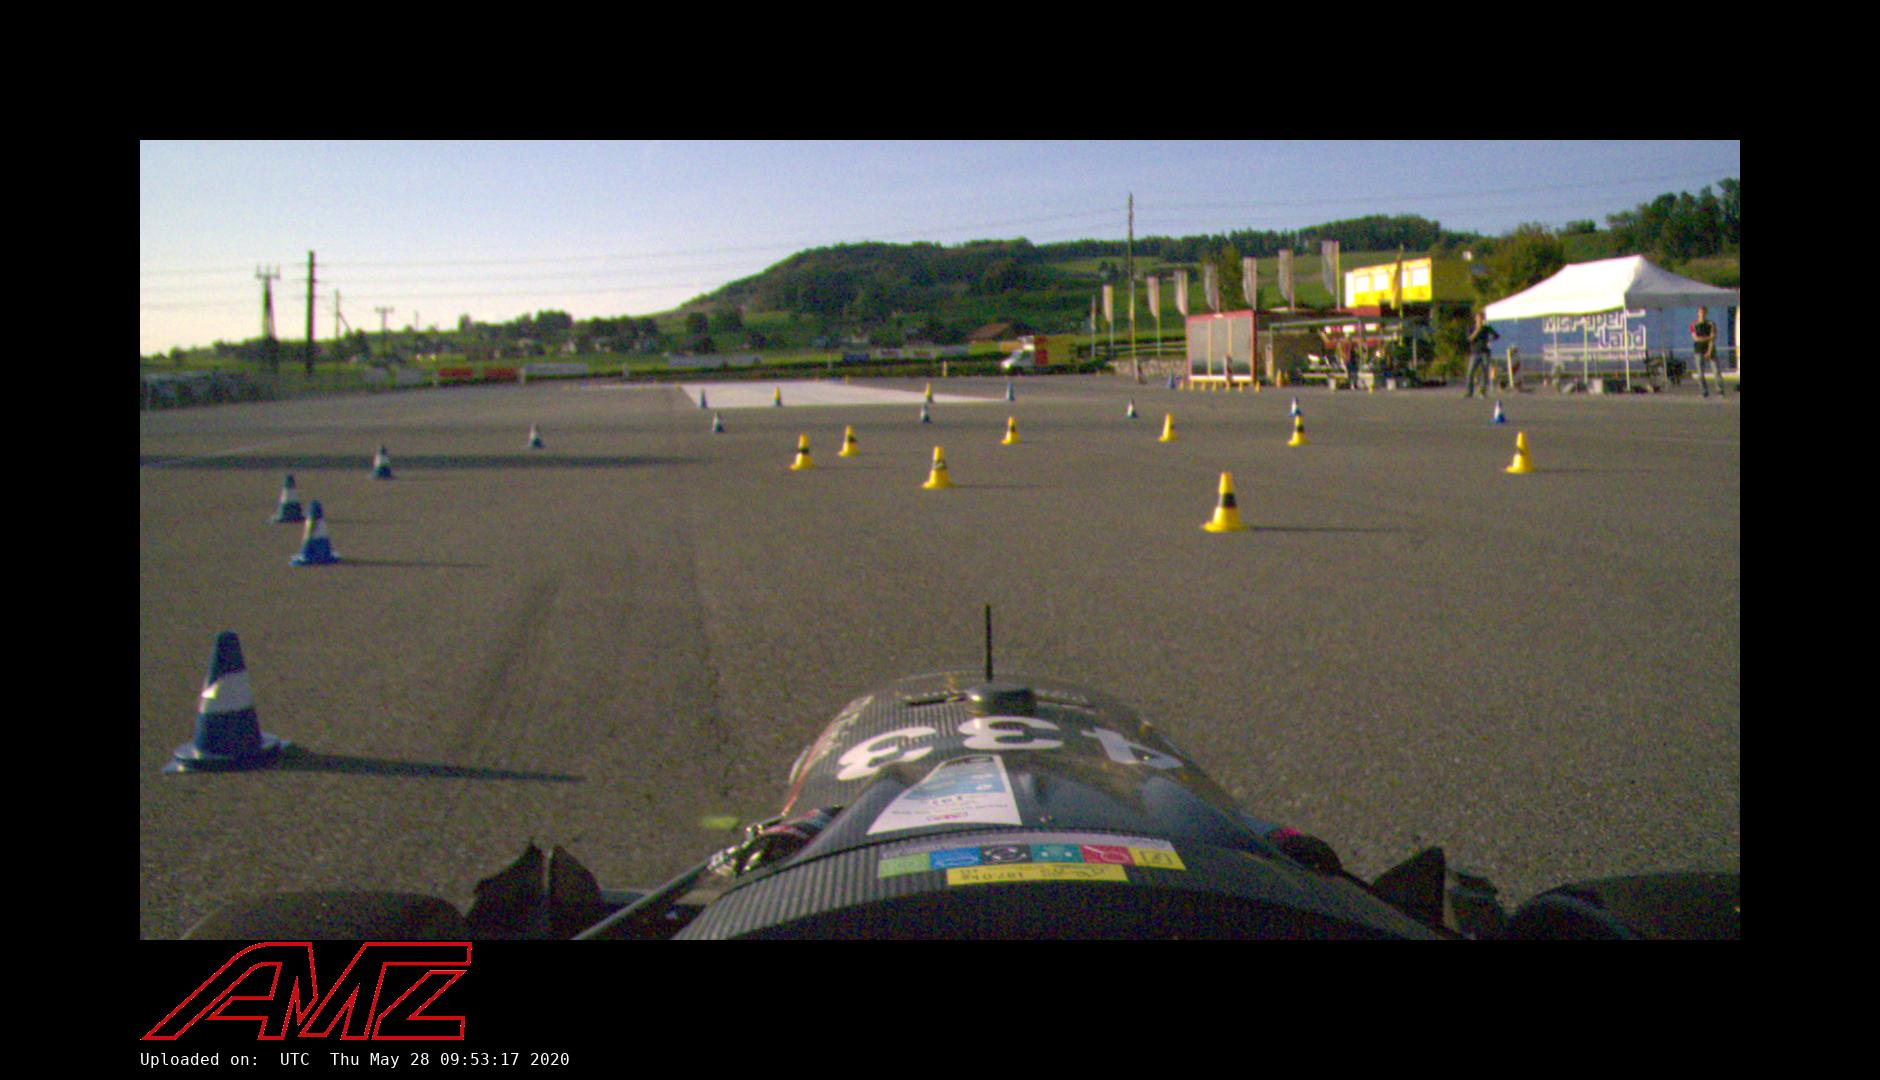blue_cone: (164, 632, 295, 777), (289, 498, 342, 567), (269, 474, 314, 524), (366, 443, 398, 482), (521, 424, 547, 449), (1488, 400, 1508, 425), (1286, 396, 1303, 416), (709, 412, 725, 433), (1124, 398, 1139, 420), (917, 405, 932, 423), (1003, 382, 1017, 401), (696, 392, 710, 410), (1164, 372, 1177, 390)
yellow_cone: (1201, 471, 1249, 533), (920, 445, 959, 489), (1505, 432, 1538, 474), (789, 434, 819, 471), (837, 424, 863, 457), (1288, 414, 1310, 446), (1159, 414, 1181, 443), (1001, 417, 1023, 445), (1237, 379, 1247, 393), (1253, 381, 1263, 394), (1199, 380, 1209, 392), (1211, 379, 1220, 392), (1188, 380, 1197, 391), (1179, 380, 1187, 391), (1224, 381, 1232, 392)
